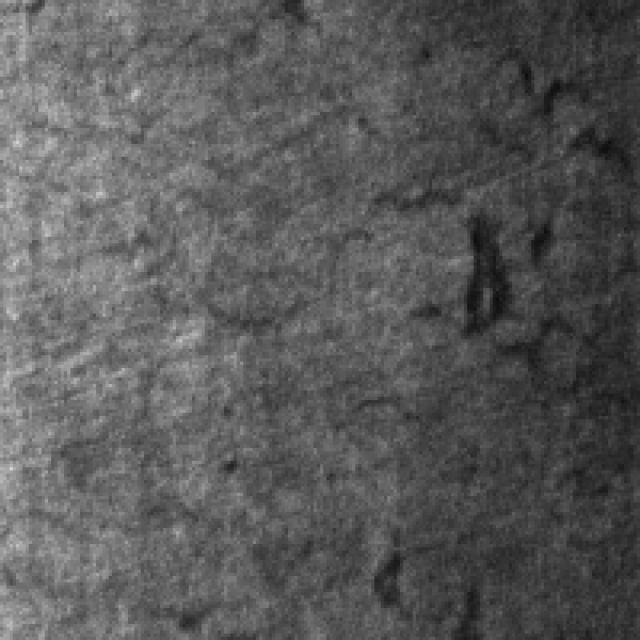crazing: (115, 87, 531, 346), (378, 35, 634, 400)
